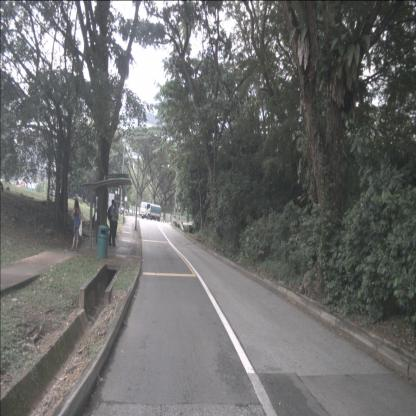human-pedestrian-adult: (70, 198, 82, 254), (106, 199, 116, 247), (111, 202, 119, 245)
vehicle-motorcycle: (116, 206, 126, 216)
vehicle-truck: (140, 201, 160, 222)
